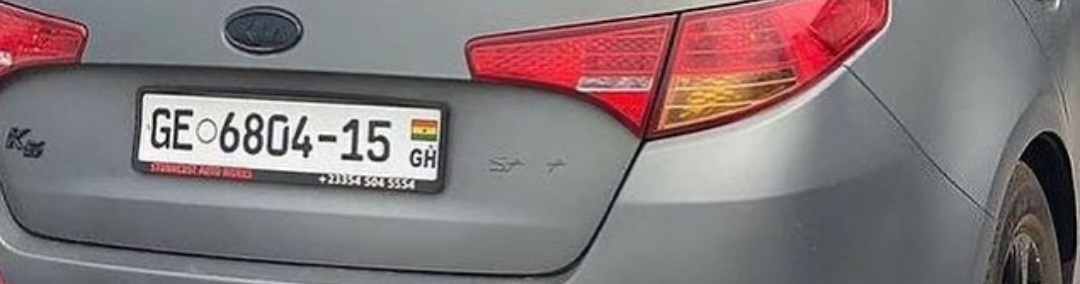number_ plates: (129, 83, 449, 198)
